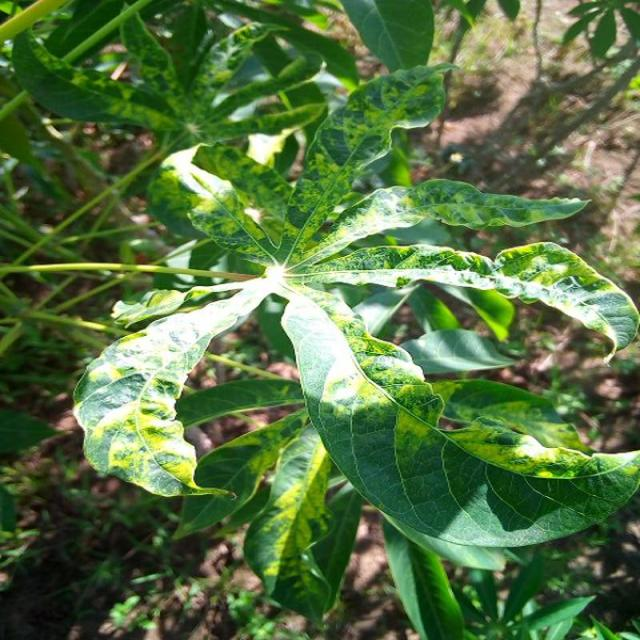cassava leaf: (70, 60, 638, 624), (280, 282, 638, 568)
